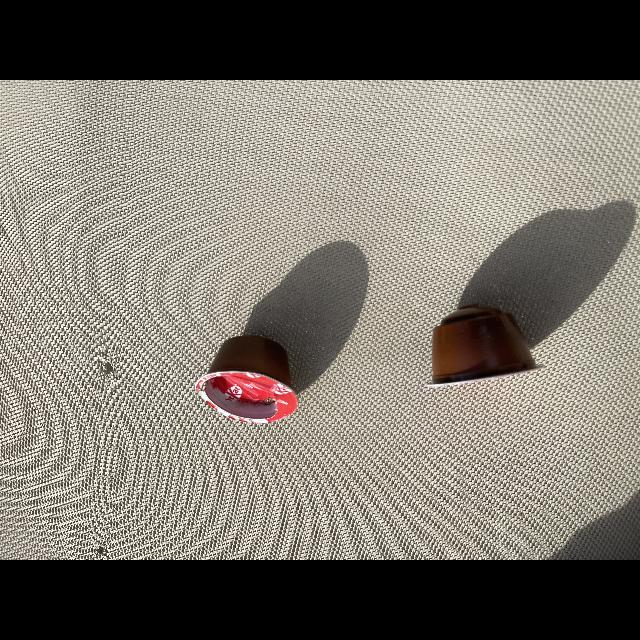damaged_capsule: (194, 335, 310, 427)
intact_capsule: (422, 302, 550, 391)
